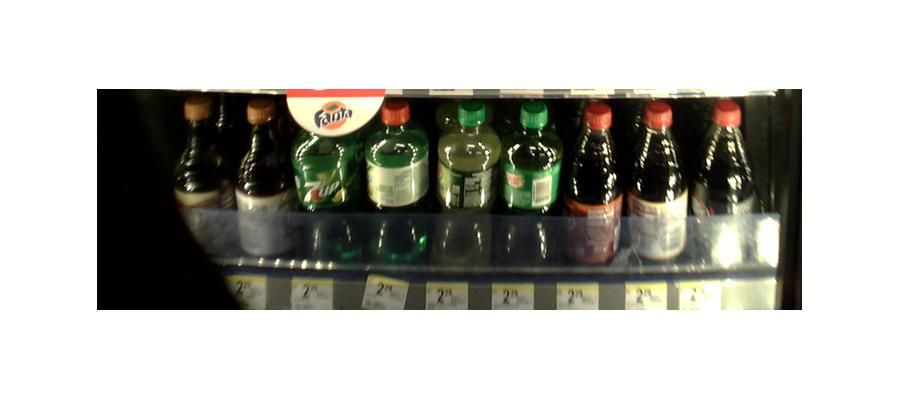bottle: (291, 104, 362, 266), (431, 102, 498, 273), (694, 101, 758, 275), (365, 97, 429, 266), (171, 92, 232, 266), (499, 102, 562, 264), (628, 100, 688, 269), (235, 95, 291, 265), (566, 103, 622, 269)
